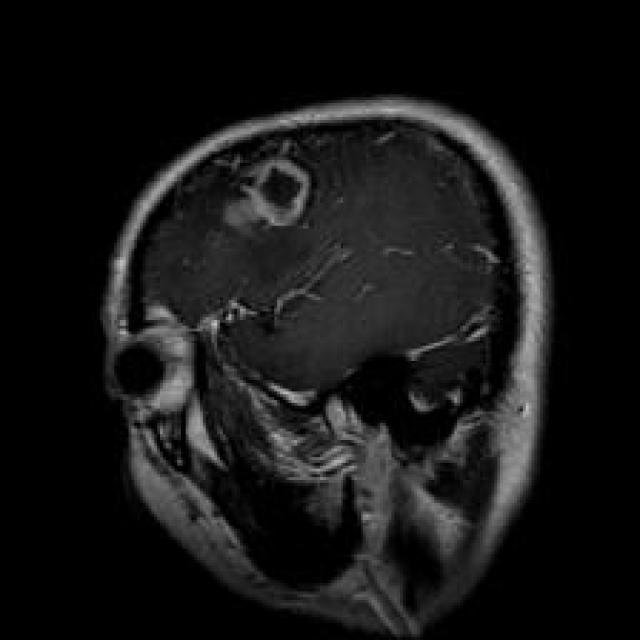glioma_tumor: (207, 133, 331, 240)
